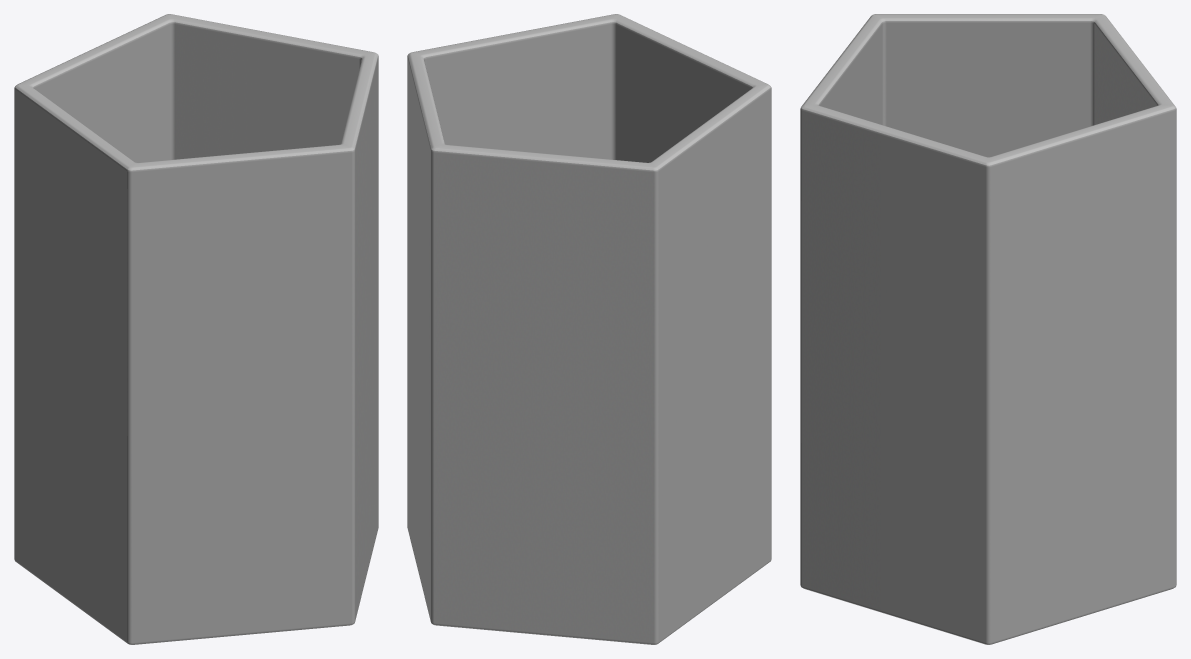
File: Assets2_pPipe1.FBX
3 views of the same model, side by side, from view 1: azimuth 30°, elevation 25°; view 2: azimuth 150°, elevation 25°; view 3: azimuth 270°, elevation 25° (orthographic).
Parts seen in each view (by area): view 1: Assets2_pPipe1; view 2: Assets2_pPipe1; view 3: Assets2_pPipe1.
Boxes of the visible parts, x1,y1,x2,y2 form: Assets2_pPipe1: (14, 14, 378, 644); Assets2_pPipe1: (407, 14, 771, 644); Assets2_pPipe1: (800, 14, 1176, 644).
Bounding box in the file's own units: 76.75 × 80.61 × 114.
1 material, 1 textured.
